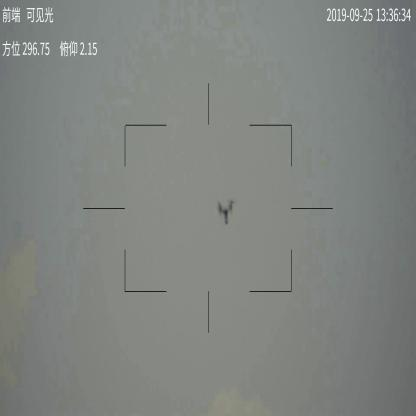uav: (216, 197, 236, 227)
